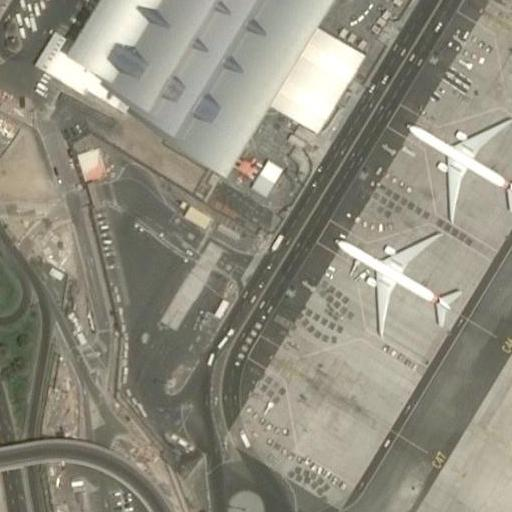Aircraft: (334, 223, 462, 329), (403, 114, 512, 221)
